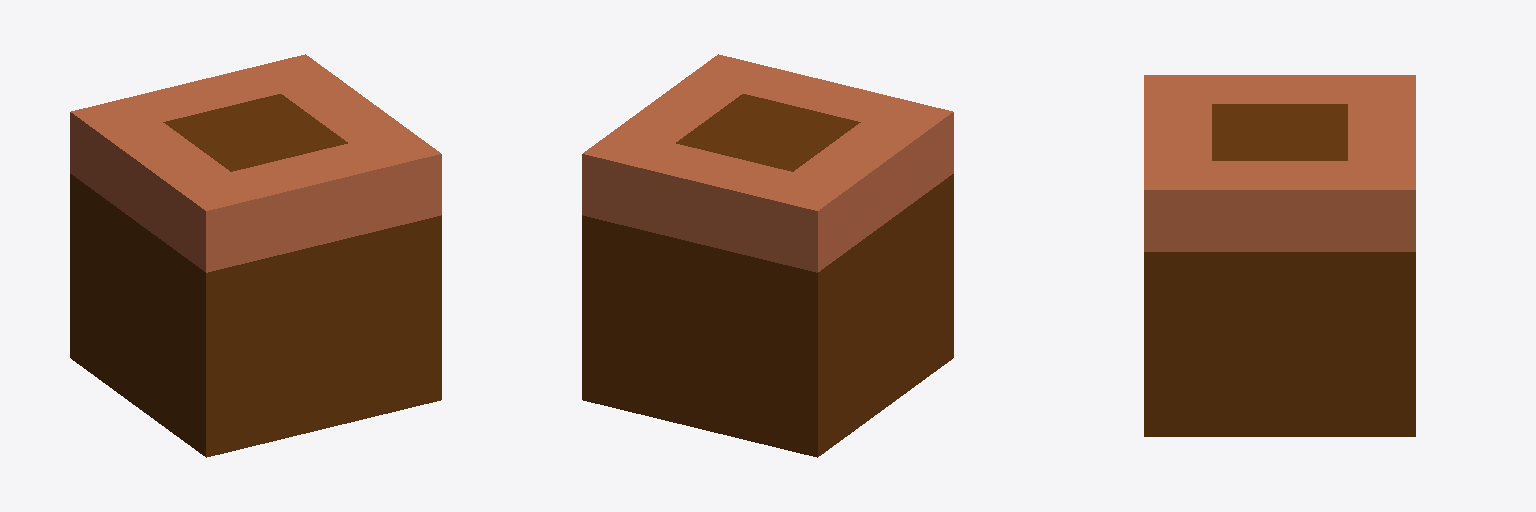
The picture shows the model from 3 angles: view 1: azimuth 30°, elevation 25°; view 2: azimuth 150°, elevation 25°; view 3: azimuth 270°, elevation 25°; orthographic projection.
Visible parts, largest first — view 1: object 1; view 2: object 1; view 3: object 1.
Boxes of the visible parts, x1=… form: object 1: x1=70, y1=54, x2=441, y2=457; object 1: x1=582, y1=54, x2=953, y2=457; object 1: x1=1144, y1=75, x2=1415, y2=436.
Size of the model in its own units: 0.4 by 0.4 by 0.4.
Materials: 1 (1 with a texture image).